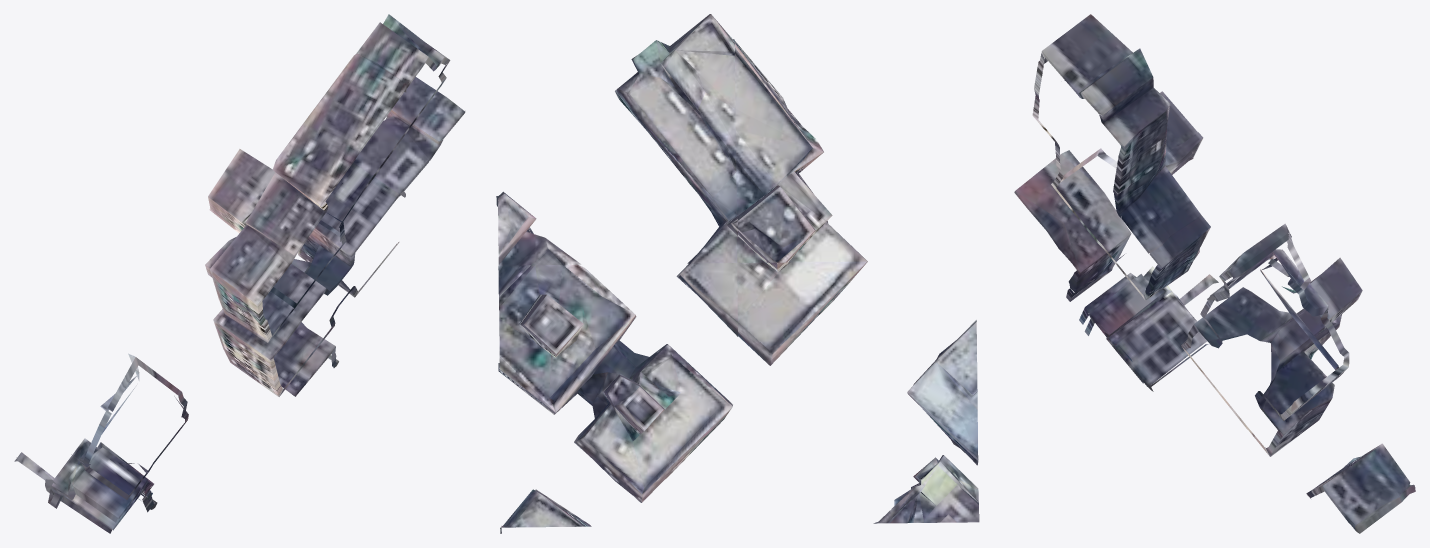
The picture shows the model from 3 angles, left to right: view 1: azimuth 30°, elevation 25°; view 2: azimuth 150°, elevation 25°; view 3: azimuth 270°, elevation 25°; orthographic projection. The views are drawn at different scales.
Bounding box in the file's own units: 75.62 × 71.79 × 54.84.
1 material, 1 textured.
